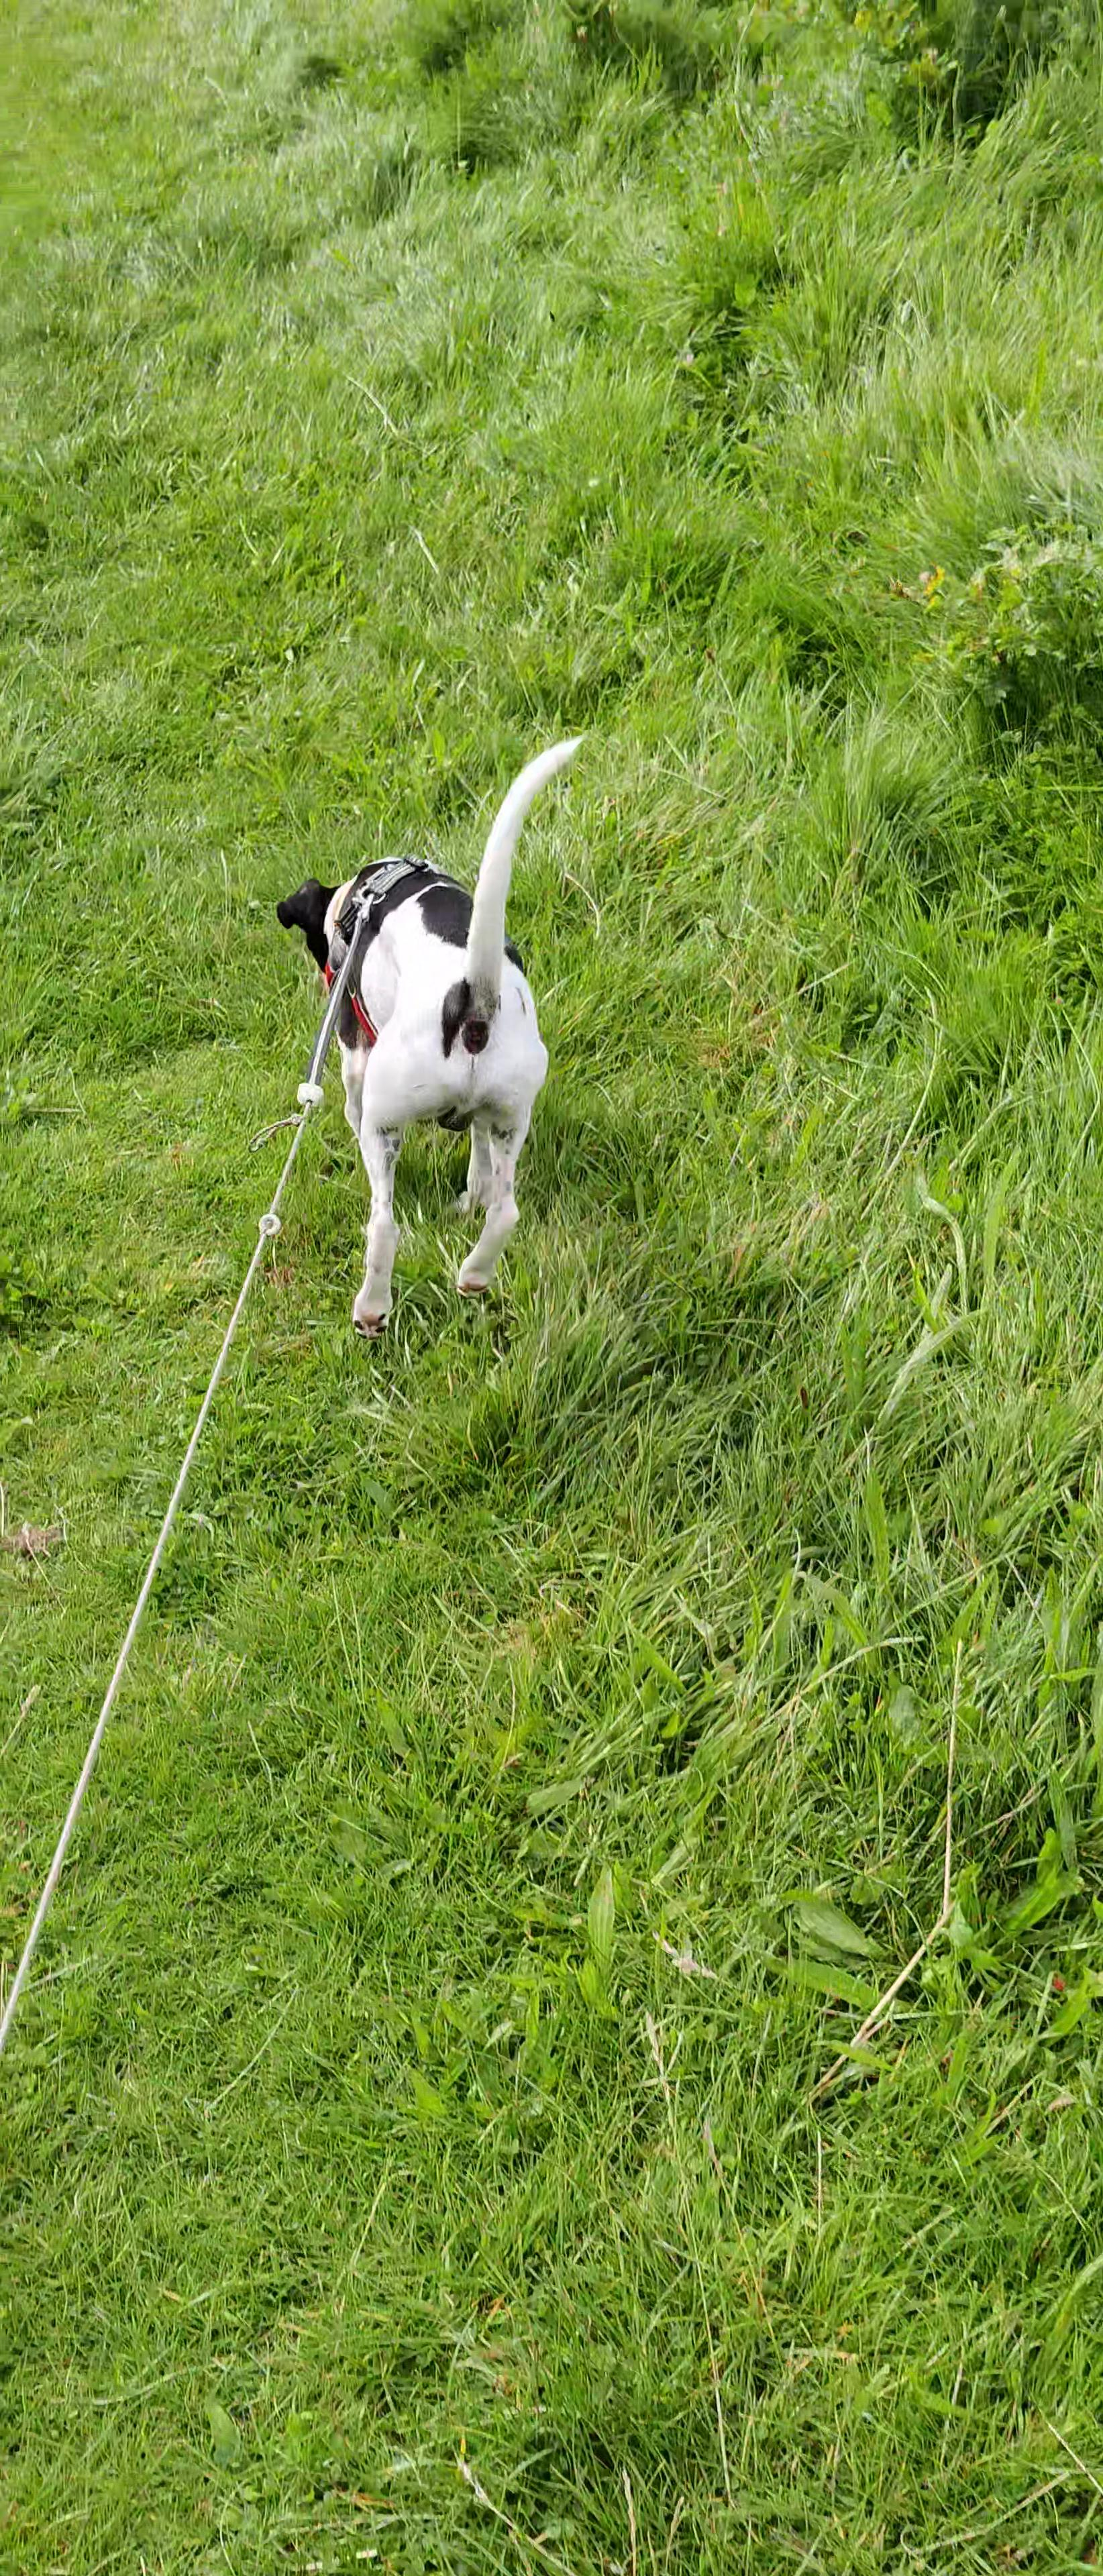Dog: (271, 729, 592, 1344)
